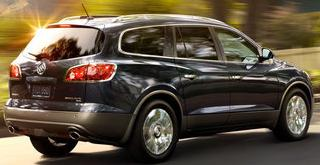back_view: (2, 52, 125, 144)
backlight: (62, 62, 120, 88)
side_glass: (118, 20, 271, 69)
